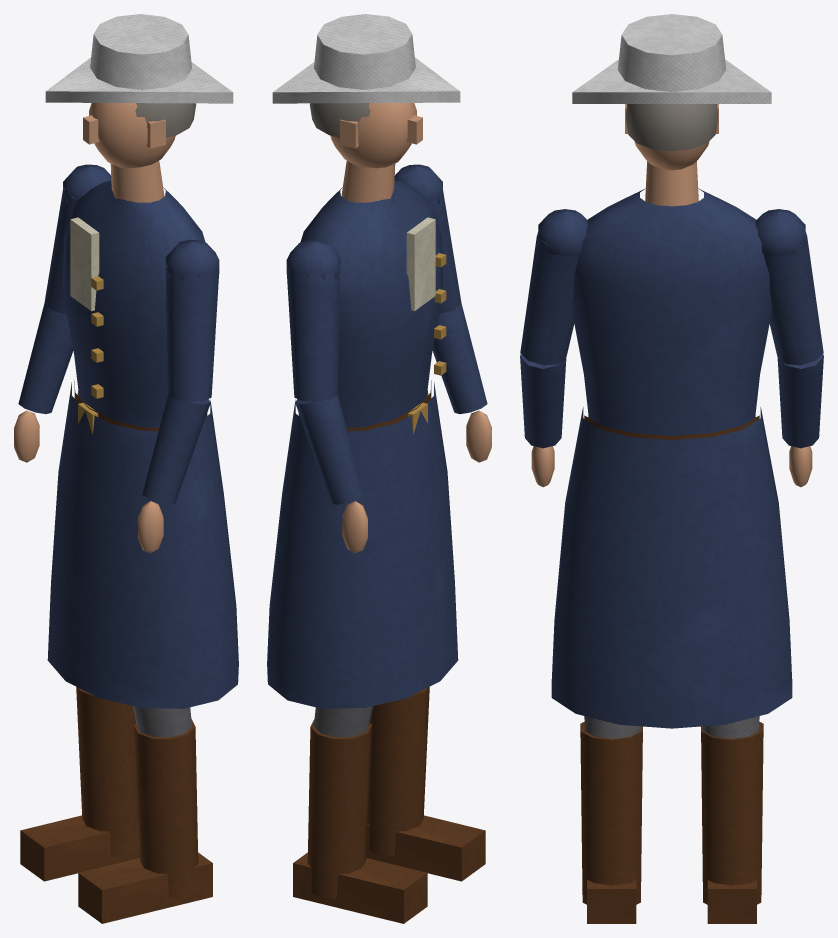
Rendered from SM_Art_Figure_merchant.gltf.
3 views of the same model, side by side, from view 1: azimuth 30°, elevation 25°; view 2: azimuth 150°, elevation 25°; view 3: azimuth 270°, elevation 25° (orthographic). The views are drawn at different scales.
Visible parts, largest first — view 1: SM_Art_Figure_merchant; view 2: SM_Art_Figure_merchant; view 3: SM_Art_Figure_merchant.
Part boxes in pixels (<box>): SM_Art_Figure_merchant: <box>14,14,238,923</box>; SM_Art_Figure_merchant: <box>267,14,491,923</box>; SM_Art_Figure_merchant: <box>520,14,823,923</box>.
Size of the model in its own units: 0.4014 by 1.84 by 0.5801.
Materials: 8 (5 with a texture image).
